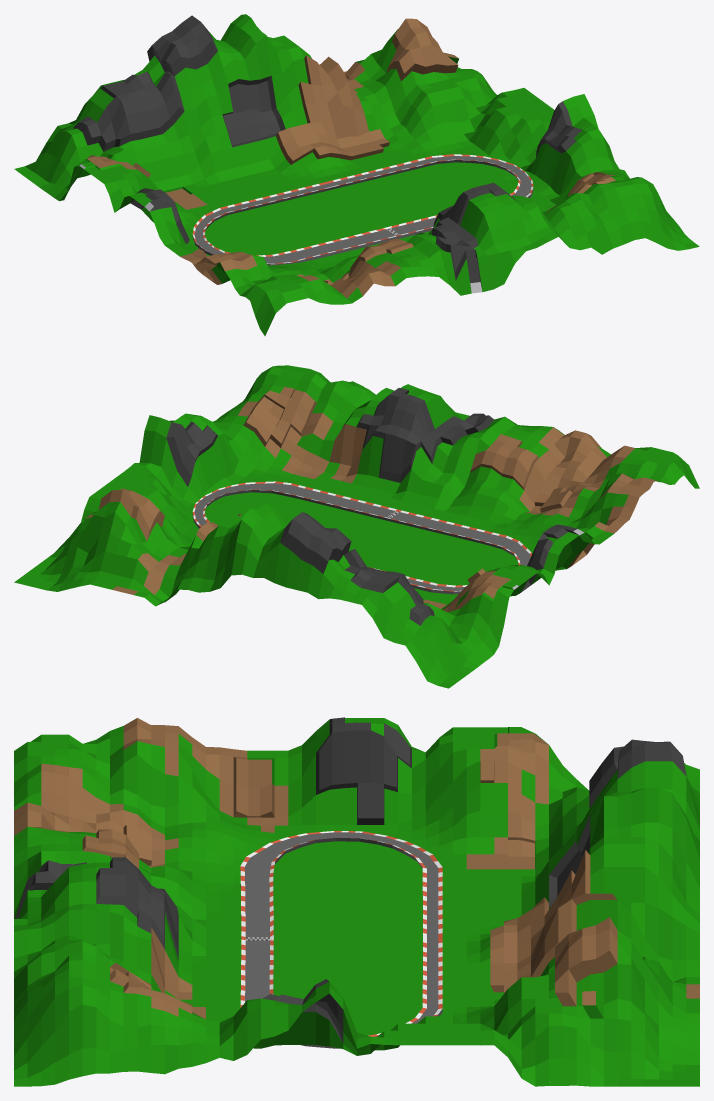
Rendered from track3.fbx.
The picture shows the model from 3 angles, top to bottom: view 1: azimuth 30°, elevation 25°; view 2: azimuth 150°, elevation 25°; view 3: azimuth 270°, elevation 25°; orthographic projection. The views are drawn at different scales.
Parts seen in each view (by area): view 1: Plane.001, Plane; view 2: Plane.001, Plane; view 3: Plane.001, Plane.
Boxes of the visible parts, x1=… form: Plane.001: x1=14, y1=14, x2=699, y2=335; Plane: x1=192, y1=154, x2=533, y2=265; Plane.001: x1=14, y1=365, x2=699, y2=688; Plane: x1=192, y1=481, x2=531, y2=594; Plane.001: x1=14, y1=717, x2=699, y2=1086; Plane: x1=240, y1=831, x2=442, y2=1048.
Size of the model in its own units: 345 by 345 by 92.95.
